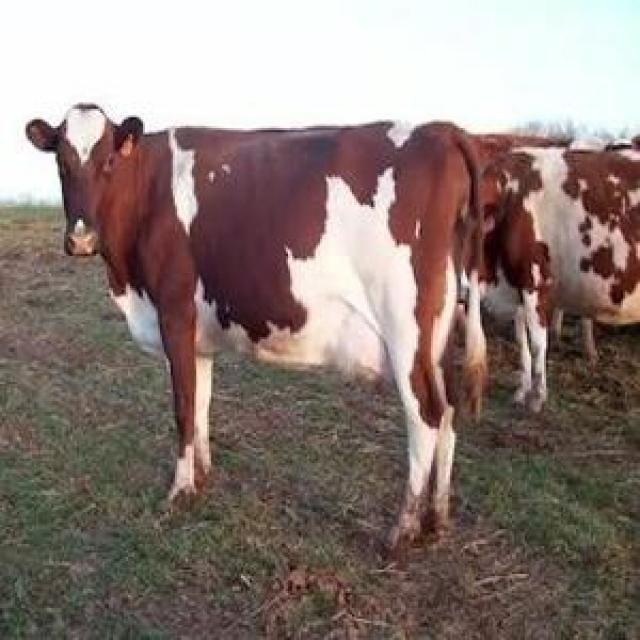cow: (26, 102, 481, 537), (474, 138, 640, 408)
